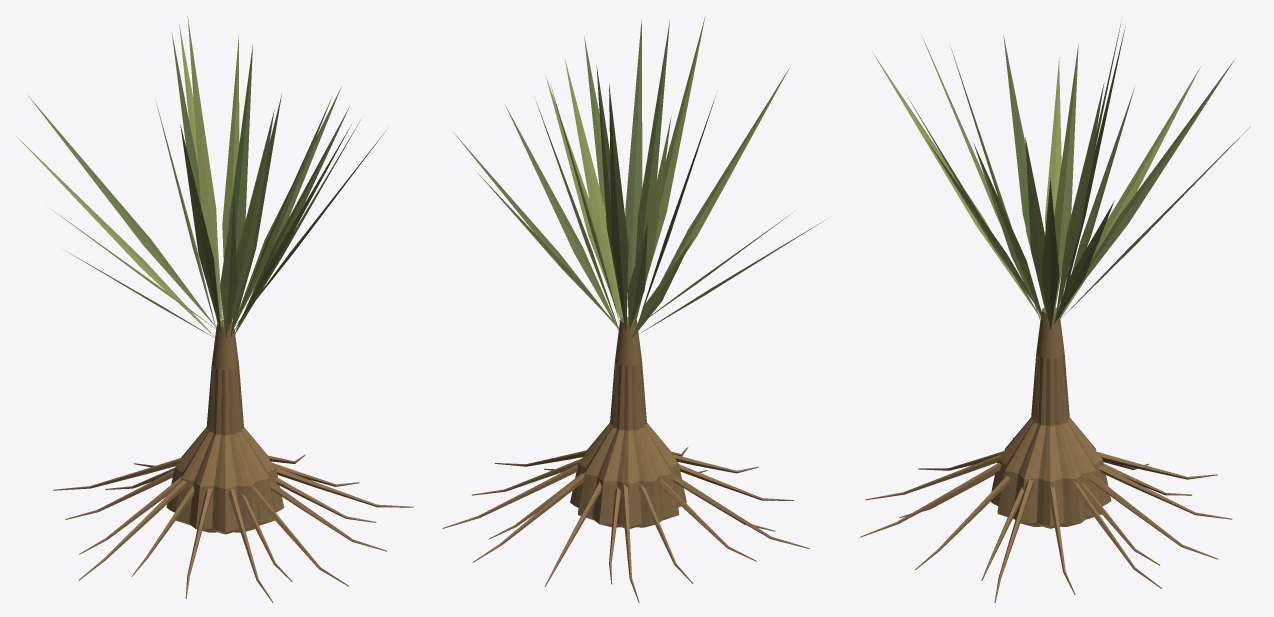
The model's file is nathorstiana.glb.
3 views of the same model, side by side, from view 1: azimuth 30°, elevation 25°; view 2: azimuth 150°, elevation 25°; view 3: azimuth 270°, elevation 25° (orthographic). The views are drawn at different scales.
Parts seen in each view (by area): view 1: short-unbranched-stem-quill-crown-ribbed-rooting-base; view 2: short-unbranched-stem-quill-crown-ribbed-rooting-base; view 3: short-unbranched-stem-quill-crown-ribbed-rooting-base.
Part boxes in pixels (x1,y1,x2,y2): short-unbranched-stem-quill-crown-ribbed-rooting-base: (16,16,413,602); short-unbranched-stem-quill-crown-ribbed-rooting-base: (442,16,826,602); short-unbranched-stem-quill-crown-ribbed-rooting-base: (860,22,1249,602).
Size of the model in its own units: 0.1636 by 0.22 by 0.1574.
